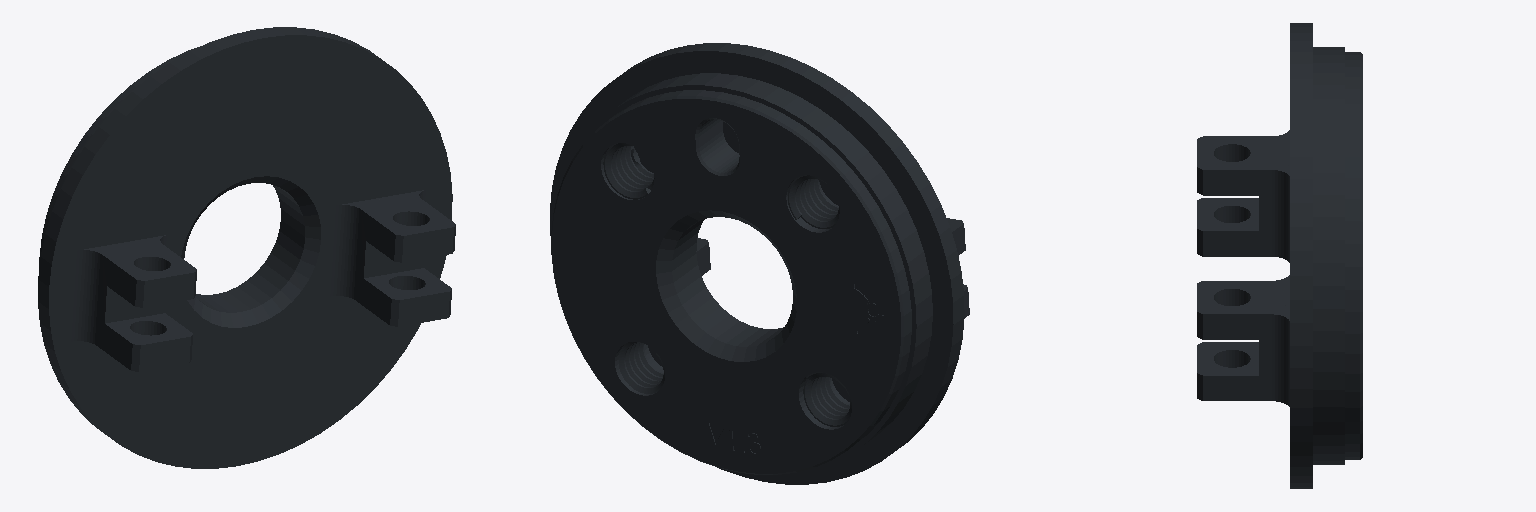
File: wristmesh.obj
3 views of the same model, side by side, from view 1: azimuth 30°, elevation 25°; view 2: azimuth 150°, elevation 25°; view 3: azimuth 270°, elevation 25° (orthographic).
Visible parts, largest first — view 1: wristmesh; view 2: wristmesh; view 3: wristmesh.
Part boxes in pixels (x1,y1,x2,y2): wristmesh: (38, 27, 455, 468); wristmesh: (550, 43, 969, 484); wristmesh: (1197, 23, 1362, 488).
Bounding box in the file's own units: 0.04 × 0.04 × 0.0142.